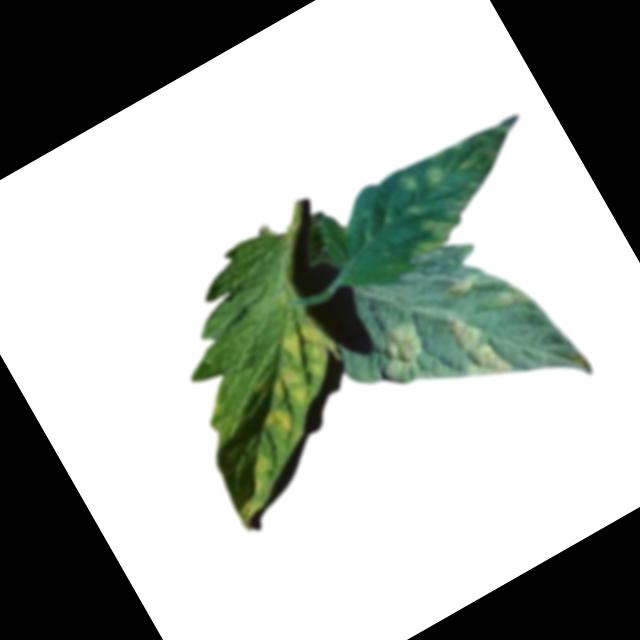Leaf_Mold: (230, 309, 365, 441), (433, 297, 517, 394), (365, 316, 436, 384), (404, 208, 462, 258), (239, 453, 280, 495), (441, 268, 483, 304), (392, 169, 425, 202), (420, 159, 450, 190)
